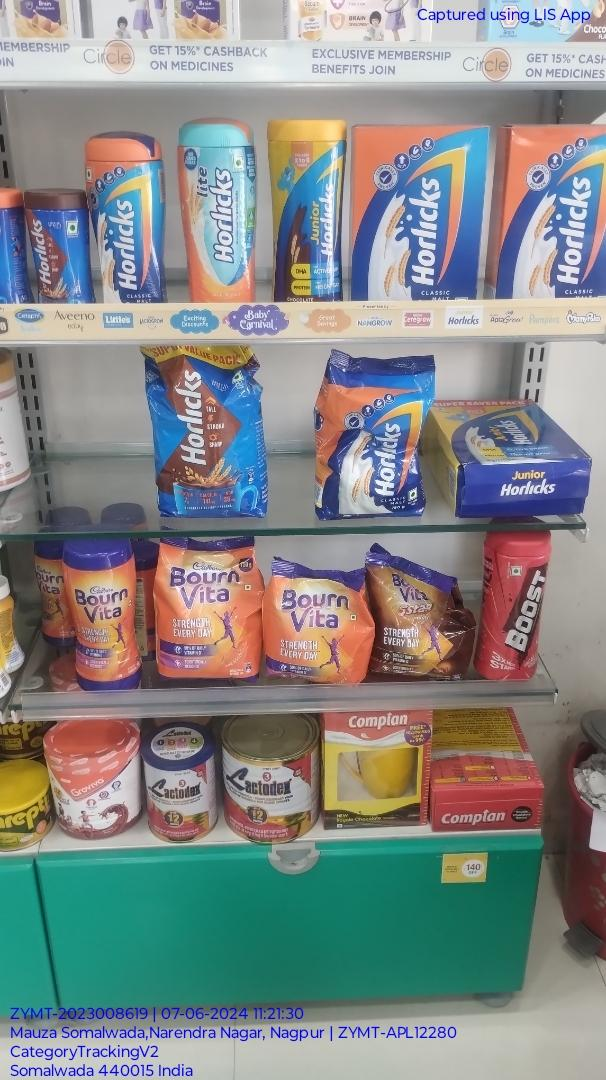BOURN_VITA_FIVE_STAR_MAGIC_500_G_POUCH: (373, 545, 480, 685)
HORLICKS_LITE_REGULAR_MALT_500_GM_JAR: (182, 116, 255, 317)
HORLICK_CLASSIC_MALT_500_G_JAR: (96, 136, 165, 301)
HORLICK_CLASSIC_MALT_500_G_PACK: (356, 126, 481, 304), (502, 121, 606, 299)
